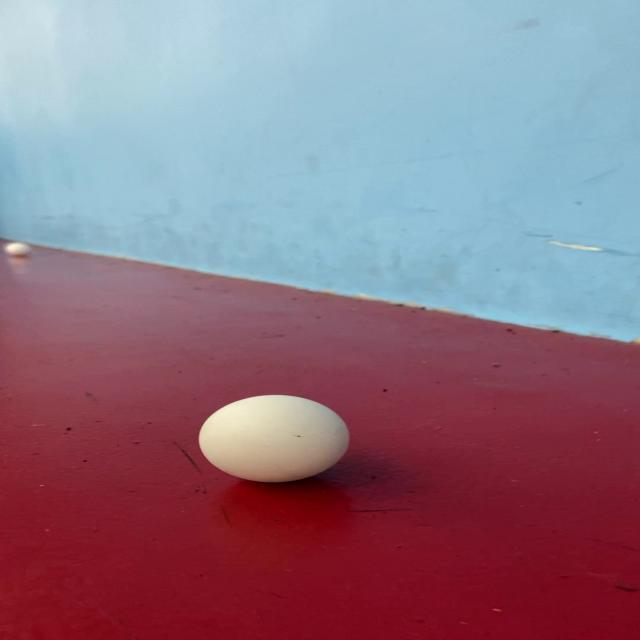ping-pong-ball: (168, 382, 396, 508), (0, 234, 50, 267)
